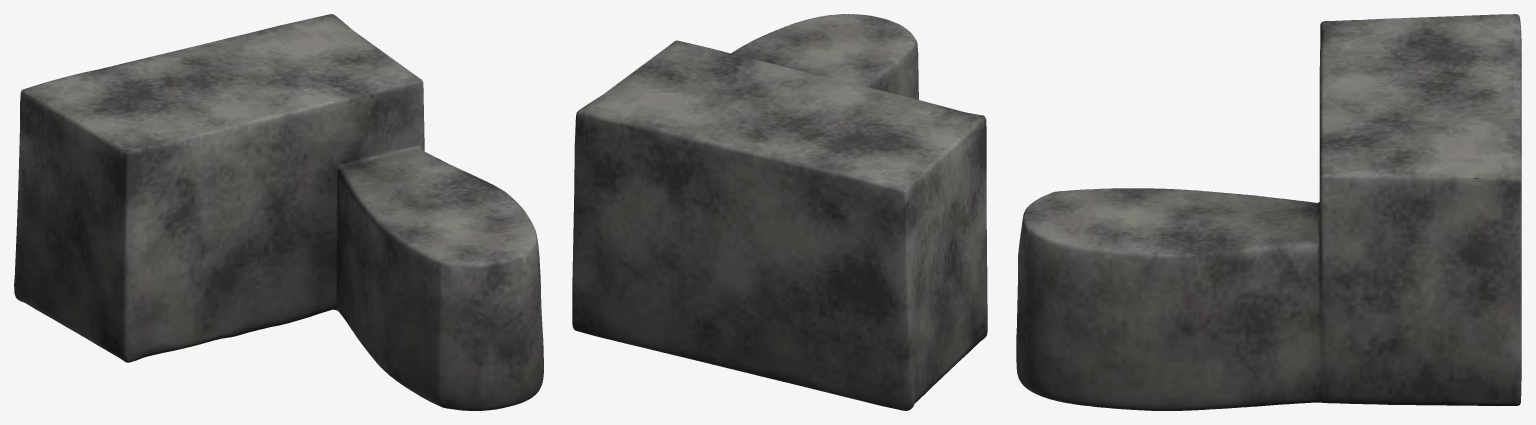
The model's file is chipped-granite-balcony-v001.glb.
The picture shows the model from 3 angles, left to right: view 1: azimuth 30°, elevation 25°; view 2: azimuth 150°, elevation 25°; view 3: azimuth 270°, elevation 25°; orthographic projection. The views are drawn at different scales.
Parts seen in each view (by area): view 1: chipped-granite-balcony; view 2: chipped-granite-balcony; view 3: chipped-granite-balcony.
Part boxes in pixels (<box>): chipped-granite-balcony: <box>14,14,543,410</box>; chipped-granite-balcony: <box>572,14,987,410</box>; chipped-granite-balcony: <box>1016,14,1521,410</box>.
Size of the model in its own units: 2.2 by 1.34 by 2.67.
Materials: 1 (1 with a texture image).
